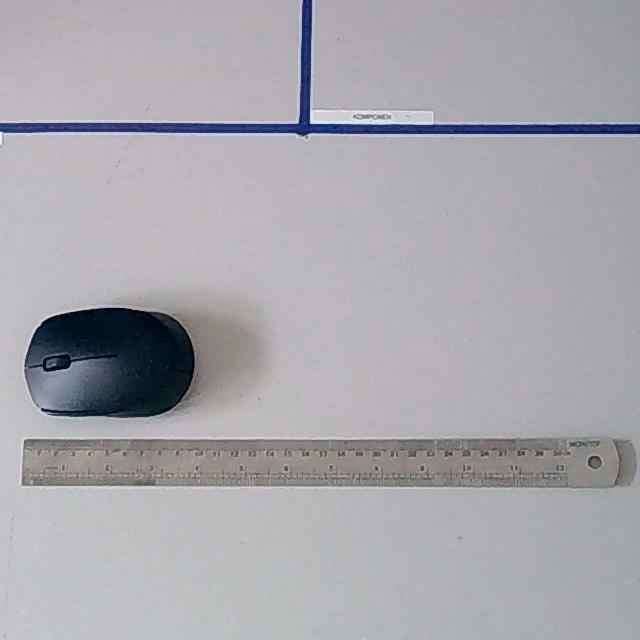mouse: (23, 303, 197, 420)
ruler: (20, 440, 623, 488)
